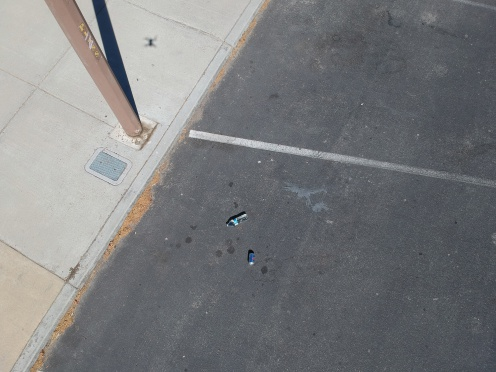bottle: (217, 208, 253, 229)
can: (246, 249, 259, 269)
